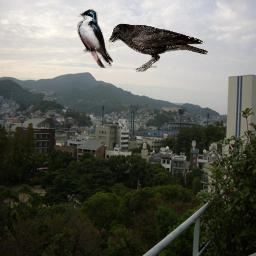Crow: (107, 23, 208, 72)
Swallow: (77, 9, 113, 68)
